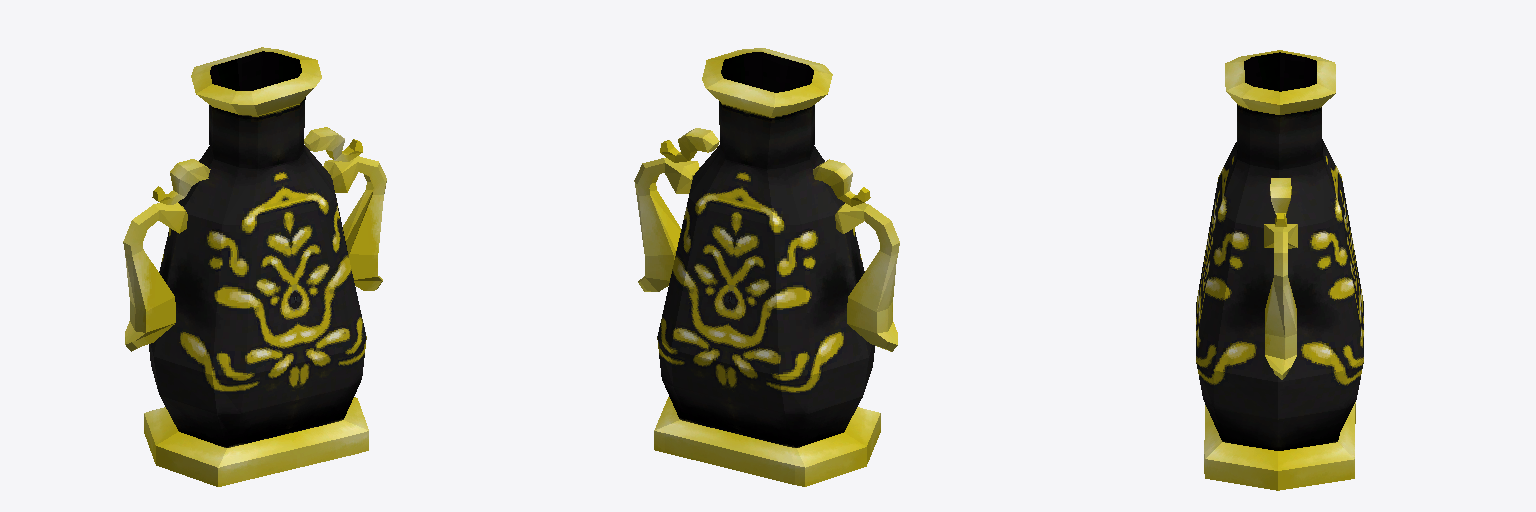
3 views of the same model, side by side, from view 1: azimuth 30°, elevation 25°; view 2: azimuth 150°, elevation 25°; view 3: azimuth 270°, elevation 25° (orthographic).
Visible parts, largest first — view 1: Quest_Vase; view 2: Quest_Vase; view 3: Quest_Vase.
Boxes of the visible parts, <box> form: Quest_Vase: <box>123,47,386,486</box>; Quest_Vase: <box>634,48,899,486</box>; Quest_Vase: <box>1196,50,1363,490</box>.
Bounding box in the file's own units: 0.7171 × 0.9605 × 0.396.
Materials: 1 (1 with a texture image).